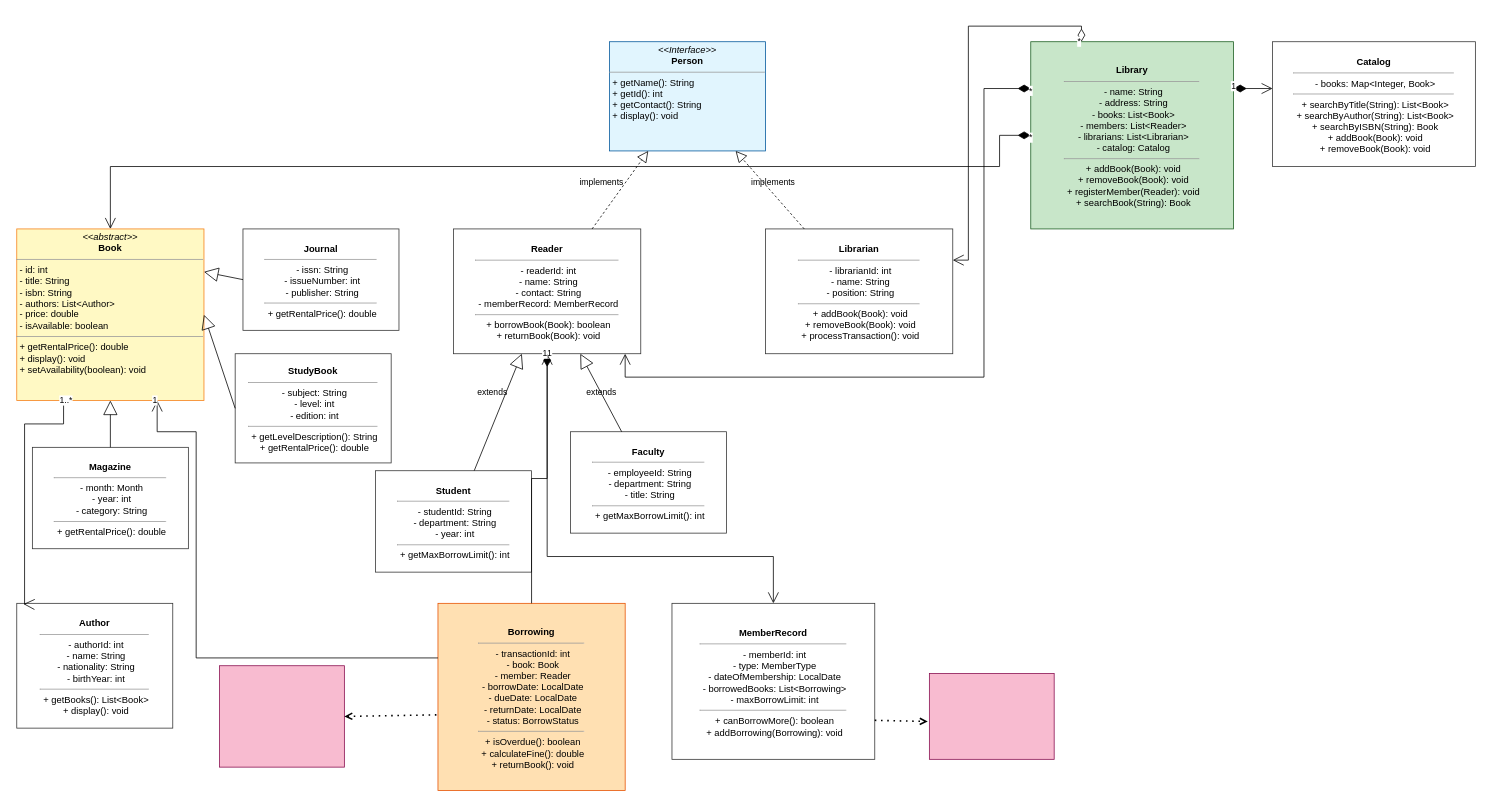
Image size: 1490x804. Some labels were removed from this diagram. Here are the shapes that lost their labels. From the top down, the box of each, then its label:
(219, 665, 344, 767): <<enumeration>> BorrowStatus BORROWED RETURNED OVERDUE LOST
(929, 673, 1054, 759): <<enumeration>> MemberType STUDENT FACULTY GUEST
